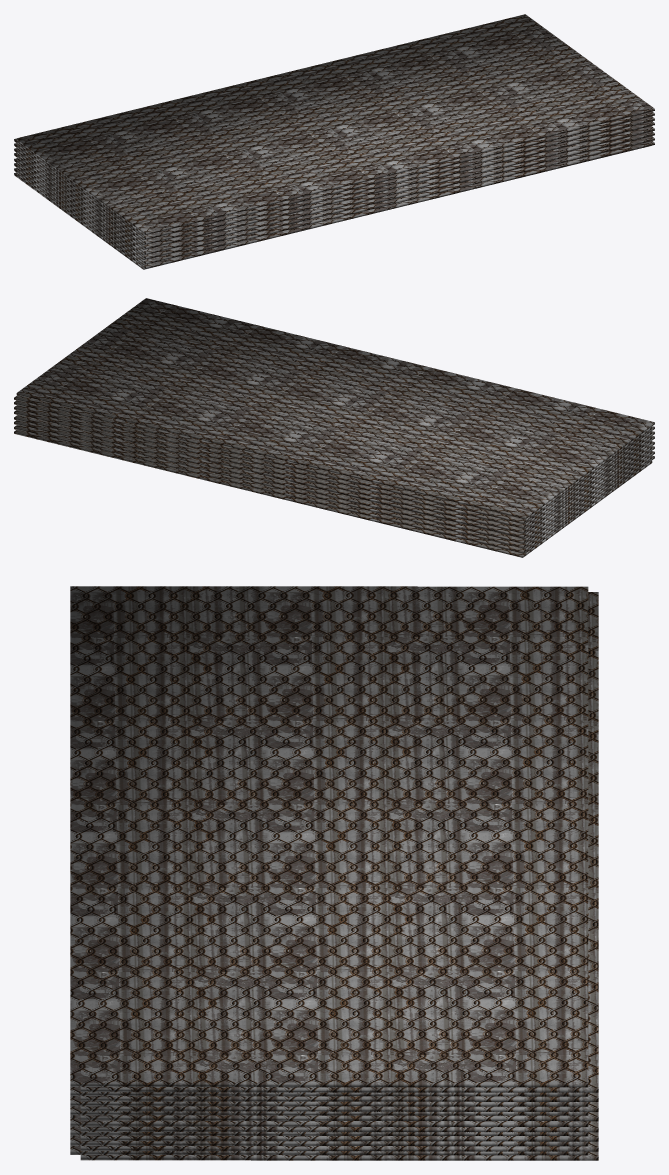
The model's file is HJ_MKTS_010.FBX.
3 renders of one model, top to bottom at view 1: azimuth 30°, elevation 25°; view 2: azimuth 150°, elevation 25°; view 3: azimuth 270°, elevation 25°, orthographic. The views are drawn at different scales.
Parts seen in each view (by area): view 1: HJ_MKTS_010; view 2: HJ_MKTS_010; view 3: HJ_MKTS_010.
Part boxes in pixels (x1=…): HJ_MKTS_010: x1=14, y1=14, x2=654, y2=269; HJ_MKTS_010: x1=14, y1=298, x2=654, y2=557; HJ_MKTS_010: x1=70, y1=586, x2=598, y2=1160.
Size of the model in its own units: 2.57 by 0.1879 by 1.15.
Materials: 1 (1 with a texture image).
